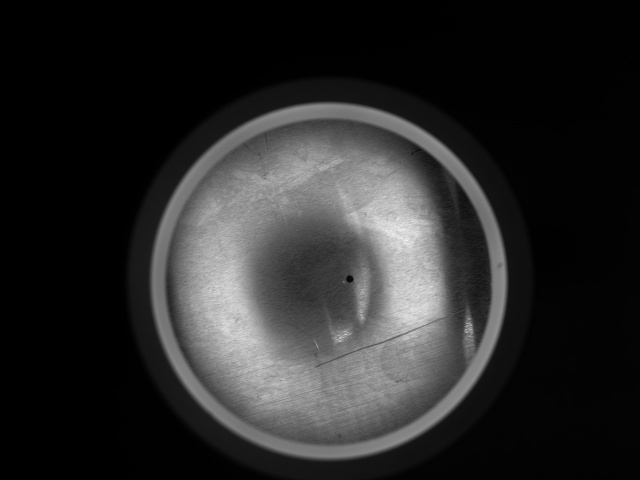ca_shang: (317, 307, 467, 367)
zhen_kong: (343, 273, 355, 286)
